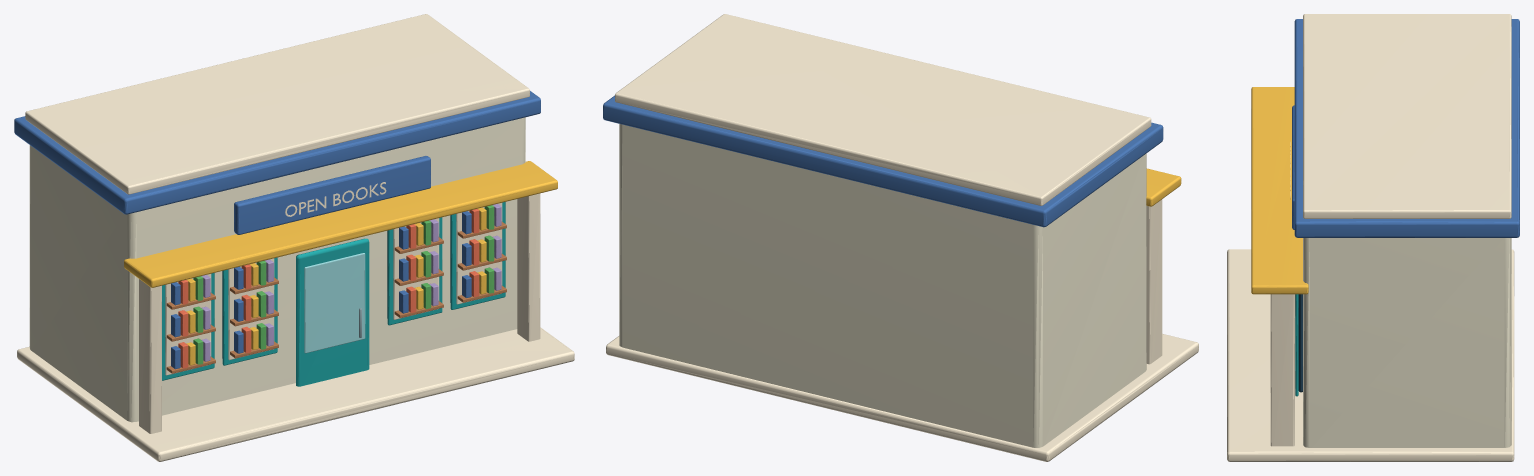
File: Library.fbx
The picture shows the model from 3 angles, left to right: view 1: azimuth 30°, elevation 25°; view 2: azimuth 150°, elevation 25°; view 3: azimuth 270°, elevation 25°; orthographic projection. The views are drawn at different scales.
Parts seen in each view (by area): view 1: GEO-Body; view 2: GEO-Body; view 3: GEO-Body.
Part boxes in pixels (x1=…): GEO-Body: x1=14, y1=14, x2=574, y2=461; GEO-Body: x1=603, y1=14, x2=1198, y2=461; GEO-Body: x1=1227, y1=14, x2=1519, y2=461.
Bounding box in the file's own units: 8.6 × 4.87 × 5.2.
